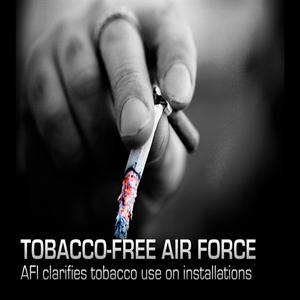cigarette: (114, 103, 165, 243)
